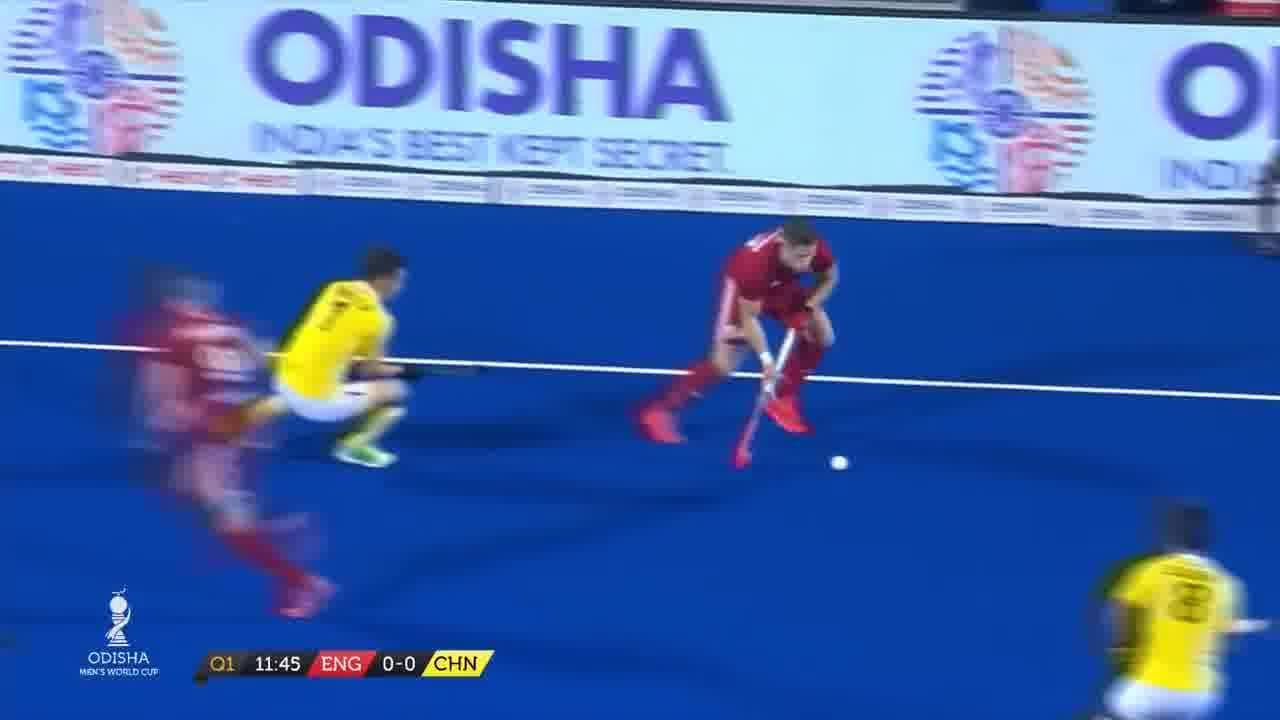ball: (827, 446, 860, 475)
